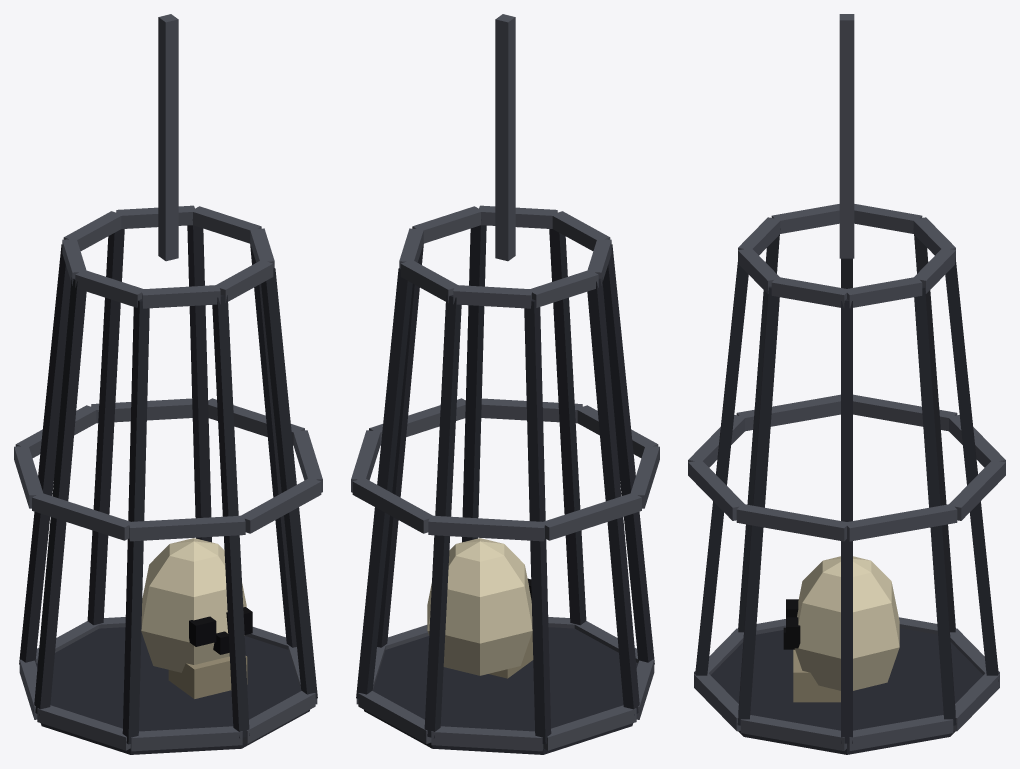
File: hanging_cage.fbx
3 renders of one model, left to right at view 1: azimuth 30°, elevation 25°; view 2: azimuth 150°, elevation 25°; view 3: azimuth 270°, elevation 25°, orthographic.
Visible parts, largest first — view 1: hanging_cage; view 2: hanging_cage; view 3: hanging_cage.
Boxes of the visible parts, x1=… form: hanging_cage: x1=14, y1=14, x2=322, y2=754; hanging_cage: x1=351, y1=14, x2=659, y2=754; hanging_cage: x1=688, y1=14, x2=1005, y2=754.
Size of the model in its own units: 1.09 by 2.55 by 1.09.
